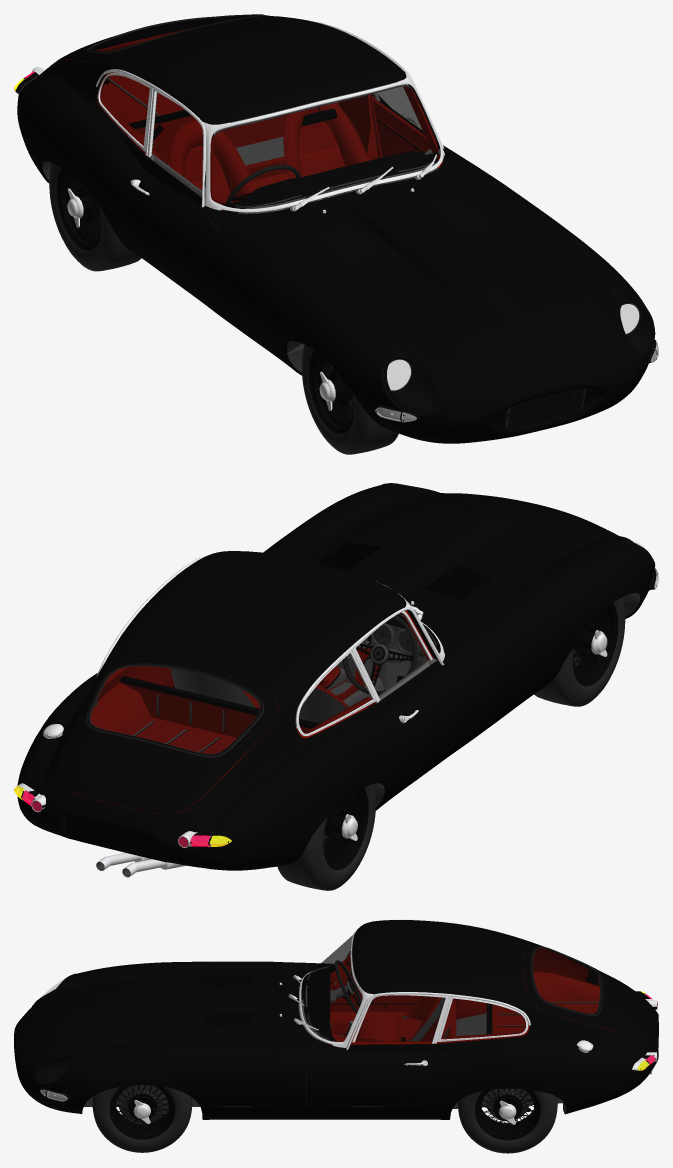
The model's file is jaguar-titi.glb.
The picture shows the model from 3 angles, top to bottom: view 1: azimuth 30°, elevation 25°; view 2: azimuth 150°, elevation 25°; view 3: azimuth 270°, elevation 25°; orthographic projection. The views are drawn at different scales.
Parts seen in each view (by area): view 1: COP:body_hooda_body_body.002, Jag1:body_body_body_body.002, COP:window_glassF_window_window.002, COP:leather_interior_leather_leather.002, Jag1:chrome_body_chrome_chrome.002, COP:leather_seatL_leather_leather.002, COP:bump_leather_interior_bump_leather_bump_leather.002, COP:leather_seatR_leather_leather.002, COP:window_glassRF_window_window.002, W2.002, chrome_rim_wheel_chrome_rim_chrome_rim1.002, W4.002 (+14 smaller); view 2: Jag1:body_body_body_body.002, COP:body_hooda_body_body.002, Jag1:body_trunk_body_body.002, Jag1:window_glassR_window_window.002, COP:leather_interior_leather_leather.002, COP:window_glassRF_window_window.002, Jag1:chrome_body_chrome_chrome.002, Jag1:window_glassRR_window_window.002, W4.002, chrome_rim_wheel_chrome_rim_chrome_rim1.002, W2.002, chrome_rim_wheel_chrome_rim_chrome_rim.007 (+9 smaller); view 3: Jag1:body_body_body_body.002, COP:body_hooda_body_body.002, COP:leather_interior_leather_leather.002, COP:window_glassF_window_window.002, COP:window_glassLF_window_window.002, Jag1:body_trunk_body_body.002, Jag1:window_glassR_window_window.002, Jag1:chrome_body_chrome_chrome.002, W1.002, W3.002, Jag1:window_glassLR_window_window.002, Jag1:chrome_rim_wheel_chrome_rim_chrome_rim.002 (+13 smaller).
Part boxes in pixels (x1,y1,x2,y2): COP:body_hooda_body_body.002: [226, 182, 653, 443]; Jag1:body_body_body_body.002: [17, 16, 505, 375]; COP:window_glassF_window_window.002: [212, 85, 437, 206]; COP:leather_interior_leather_leather.002: [63, 27, 442, 189]; Jag1:chrome_body_chrome_chrome.002: [31, 21, 444, 213]; COP:leather_seatL_leather_leather.002: [283, 103, 368, 178]; COP:bump_leather_interior_bump_leather_bump_leather.002: [150, 151, 438, 213]; COP:leather_seatR_leather_leather.002: [169, 120, 255, 203]; COP:window_glassRF_window_window.002: [151, 92, 202, 191]; W2.002: [302, 345, 398, 454]; chrome_rim_wheel_chrome_rim_chrome_rim1.002: [56, 168, 101, 250]; W4.002: [49, 163, 141, 271]; Jag1:body_body_body_body.002: [17, 551, 562, 870]; COP:body_hooda_body_body.002: [263, 484, 654, 701]; Jag1:body_trunk_body_body.002: [60, 656, 278, 813]; Jag1:window_glassR_window_window.002: [91, 666, 259, 753]; COP:leather_interior_leather_leather.002: [60, 647, 378, 813]; COP:window_glassRF_window_window.002: [356, 613, 429, 697]; Jag1:chrome_body_chrome_chrome.002: [17, 557, 444, 847]; Jag1:window_glassRR_window_window.002: [299, 654, 371, 733]; W4.002: [277, 784, 375, 890]; chrome_rim_wheel_chrome_rim_chrome_rim1.002: [323, 788, 368, 870]; W2.002: [534, 597, 625, 706]; chrome_rim_wheel_chrome_rim_chrome_rim.007: [573, 603, 618, 686]; Jag1:body_body_body_body.002: [200, 920, 658, 1119]; COP:body_hooda_body_body.002: [14, 961, 274, 1113]; COP:leather_interior_leather_leather.002: [305, 948, 645, 1047]; COP:window_glassF_window_window.002: [303, 935, 362, 1040]; COP:window_glassLF_window_window.002: [355, 995, 444, 1042]; Jag1:body_trunk_body_body.002: [523, 943, 649, 1038]; Jag1:window_glassR_window_window.002: [533, 948, 599, 1013]; Jag1:chrome_body_chrome_chrome.002: [279, 919, 657, 1070]; W1.002: [92, 1086, 192, 1152]; W3.002: [458, 1090, 557, 1153]; Jag1:window_glassLR_window_window.002: [441, 999, 525, 1038]; Jag1:chrome_rim_wheel_chrome_rim_chrome_rim.002: [109, 1085, 175, 1139].
Bounding box in the file's own units: 1.66 × 1.19 × 4.29.
26 materials, 5 textured.
